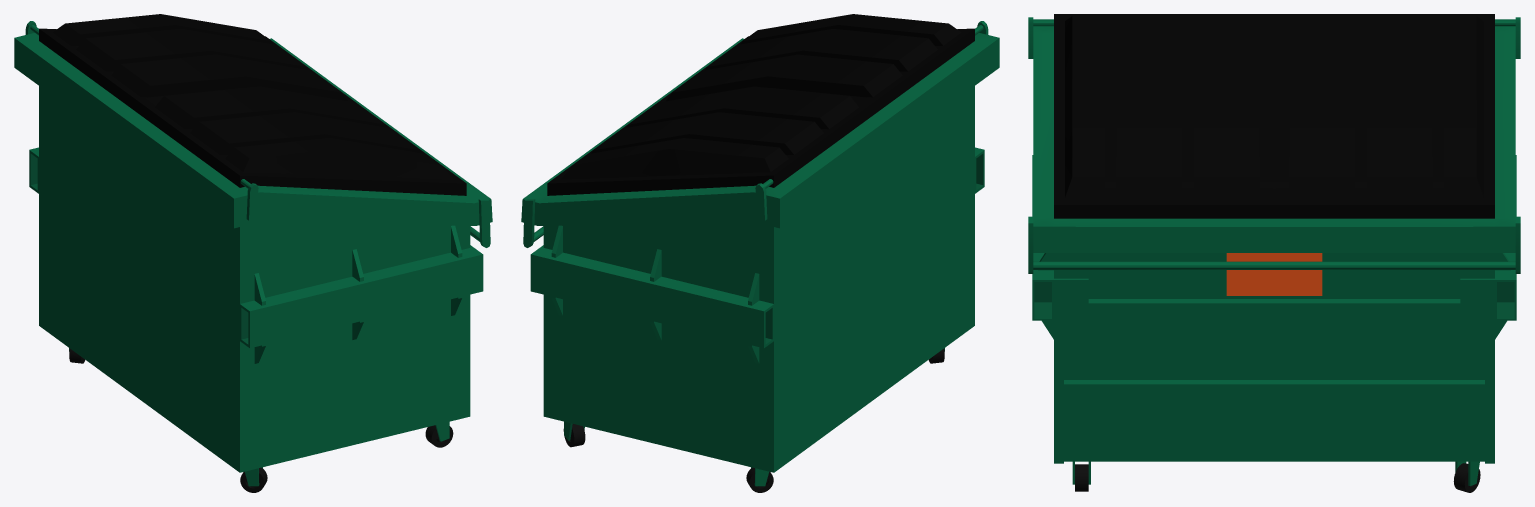
File: Dumpster_Closed.glb
The picture shows the model from 3 angles, left to right: view 1: azimuth 30°, elevation 25°; view 2: azimuth 150°, elevation 25°; view 3: azimuth 270°, elevation 25°; orthographic projection. The views are drawn at different scales.
Visible parts, largest first — view 1: Mesh_Dumpster_Closed; view 2: Mesh_Dumpster_Closed; view 3: Mesh_Dumpster_Closed.
Part boxes in pixels (box(x1,y1,x2,y2)): Mesh_Dumpster_Closed: box(14, 14, 492, 492); Mesh_Dumpster_Closed: box(521, 14, 999, 492); Mesh_Dumpster_Closed: box(1028, 14, 1520, 492).
Size of the model in its own units: 1.2 by 1.49 by 1.8.
Materials: 1 (1 with a texture image).
